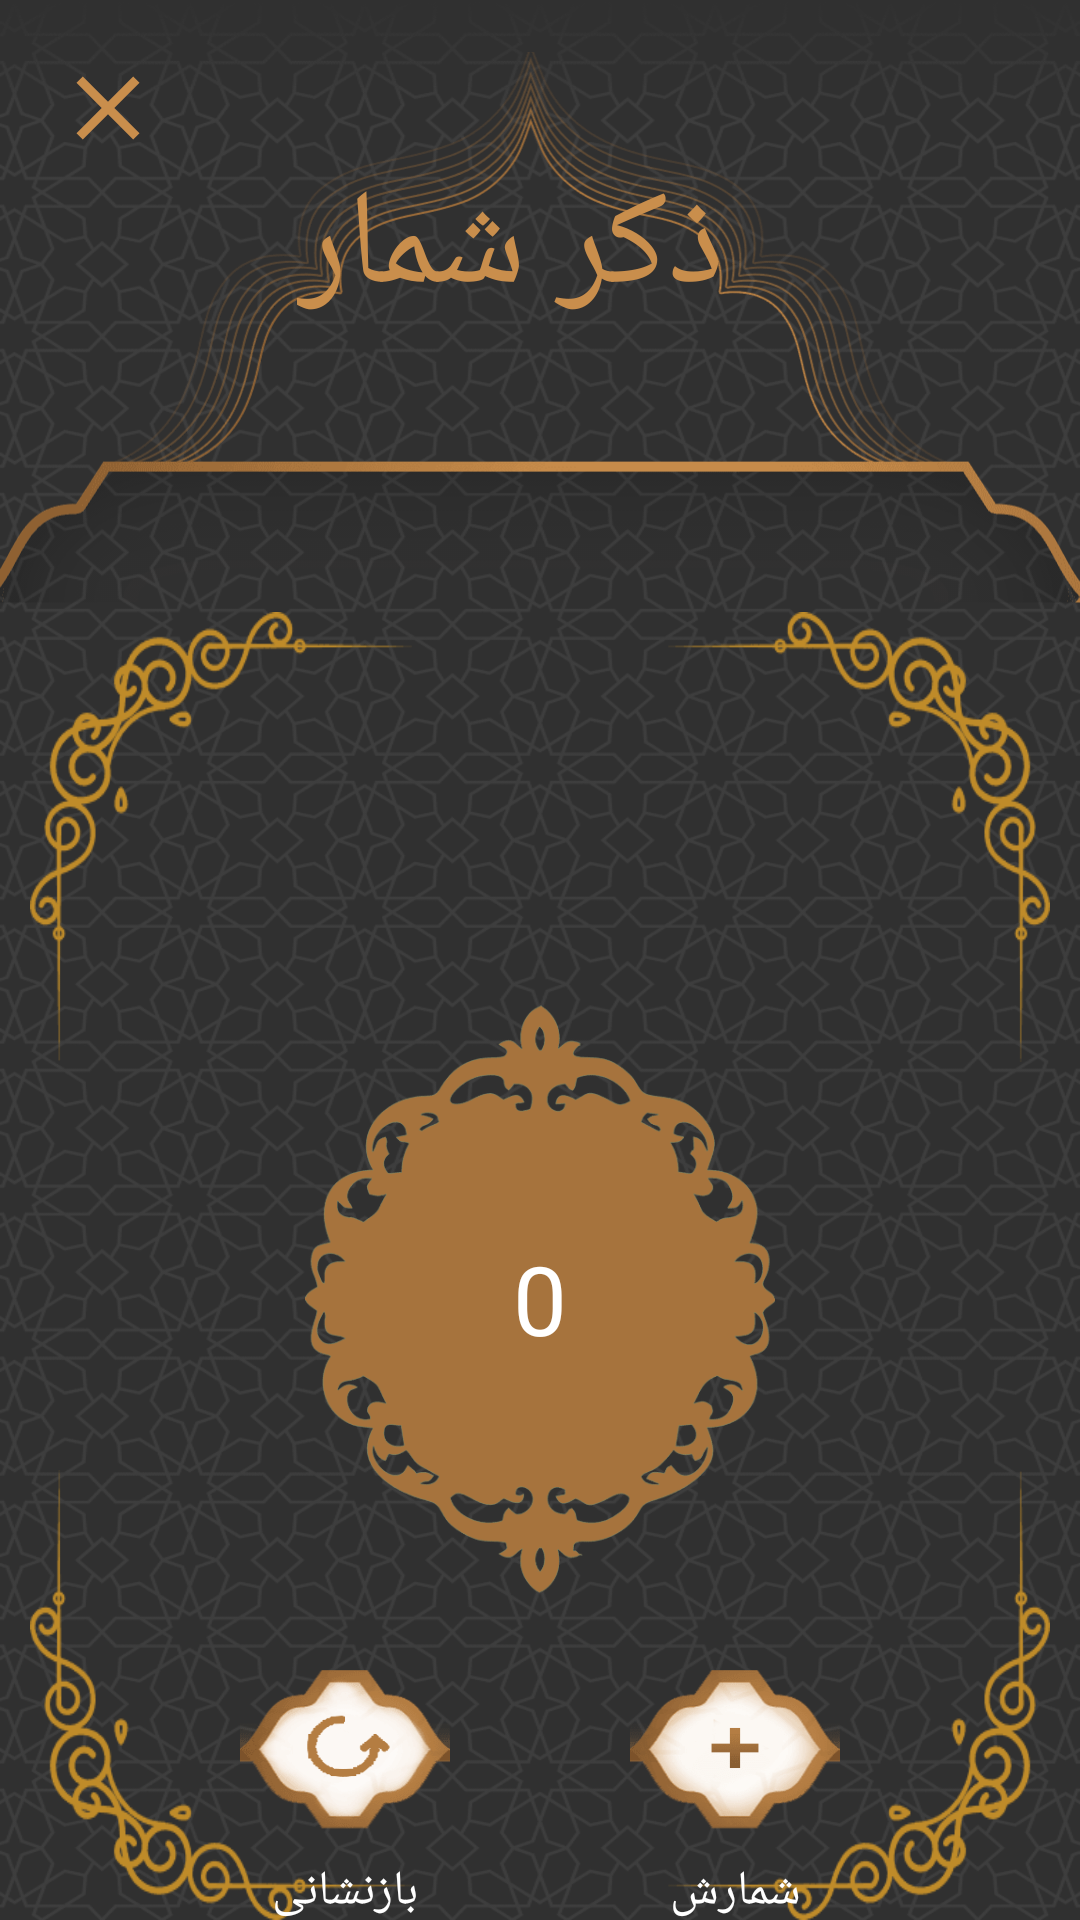

Icons on this 1080 x 1920 Android screen, each with the point to tap as [x,y]:
add: [735,1749]
